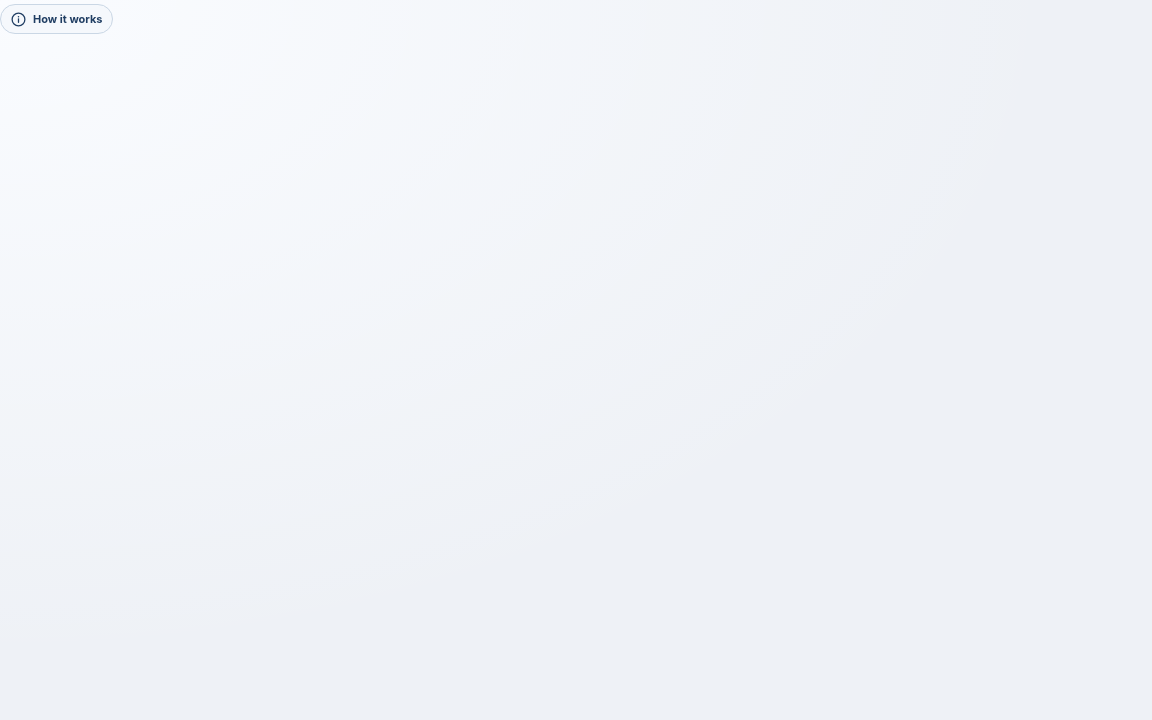
ElectionInfo › explains the president election and closes accessibly
Click the button "How it works". click: coordinates (56, 19)
box: x1=0 y1=4 x2=112 y2=34
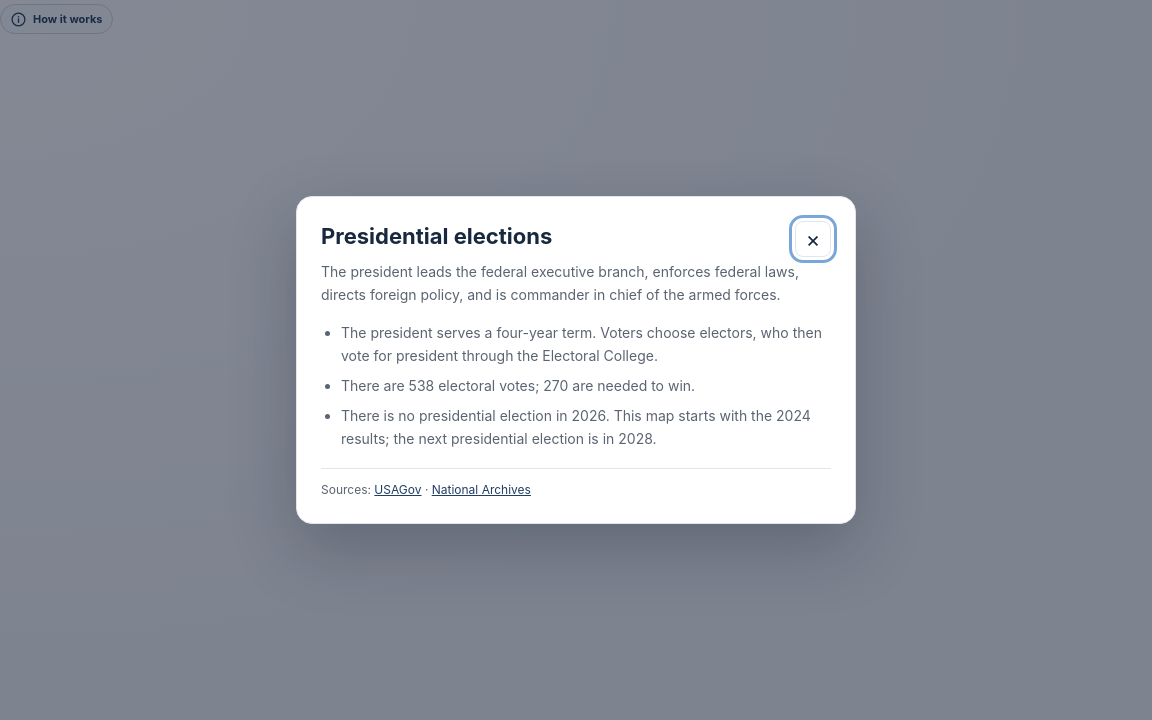
Result: the button "How it works" is expanded at x1=0 y1=4 x2=112 y2=34
Result: the dialog shows "538" at x1=341 y1=377 x2=695 y2=394
Result: the dialog shows "270" at x1=341 y1=377 x2=695 y2=394
Click the button "×". click: coordinates (813, 239)
box: x1=795 y1=221 x2=831 y2=257
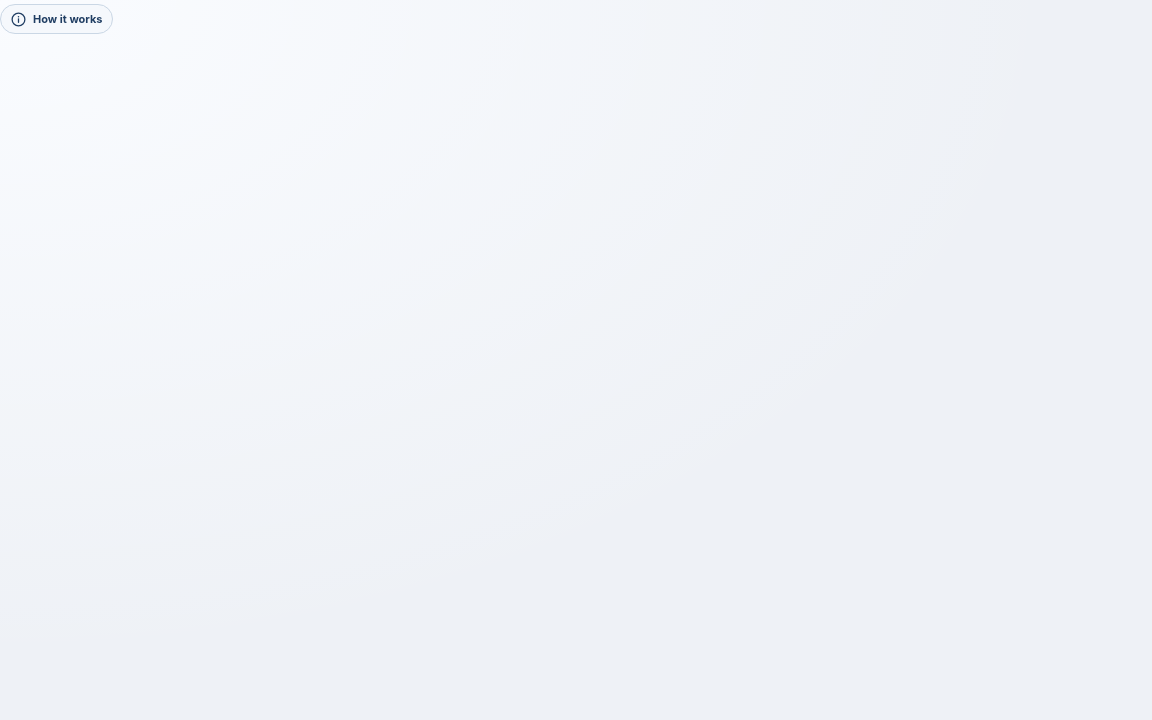
Result: the dialog is gone
Result: the button "How it works" is collapsed at x1=0 y1=4 x2=112 y2=34
